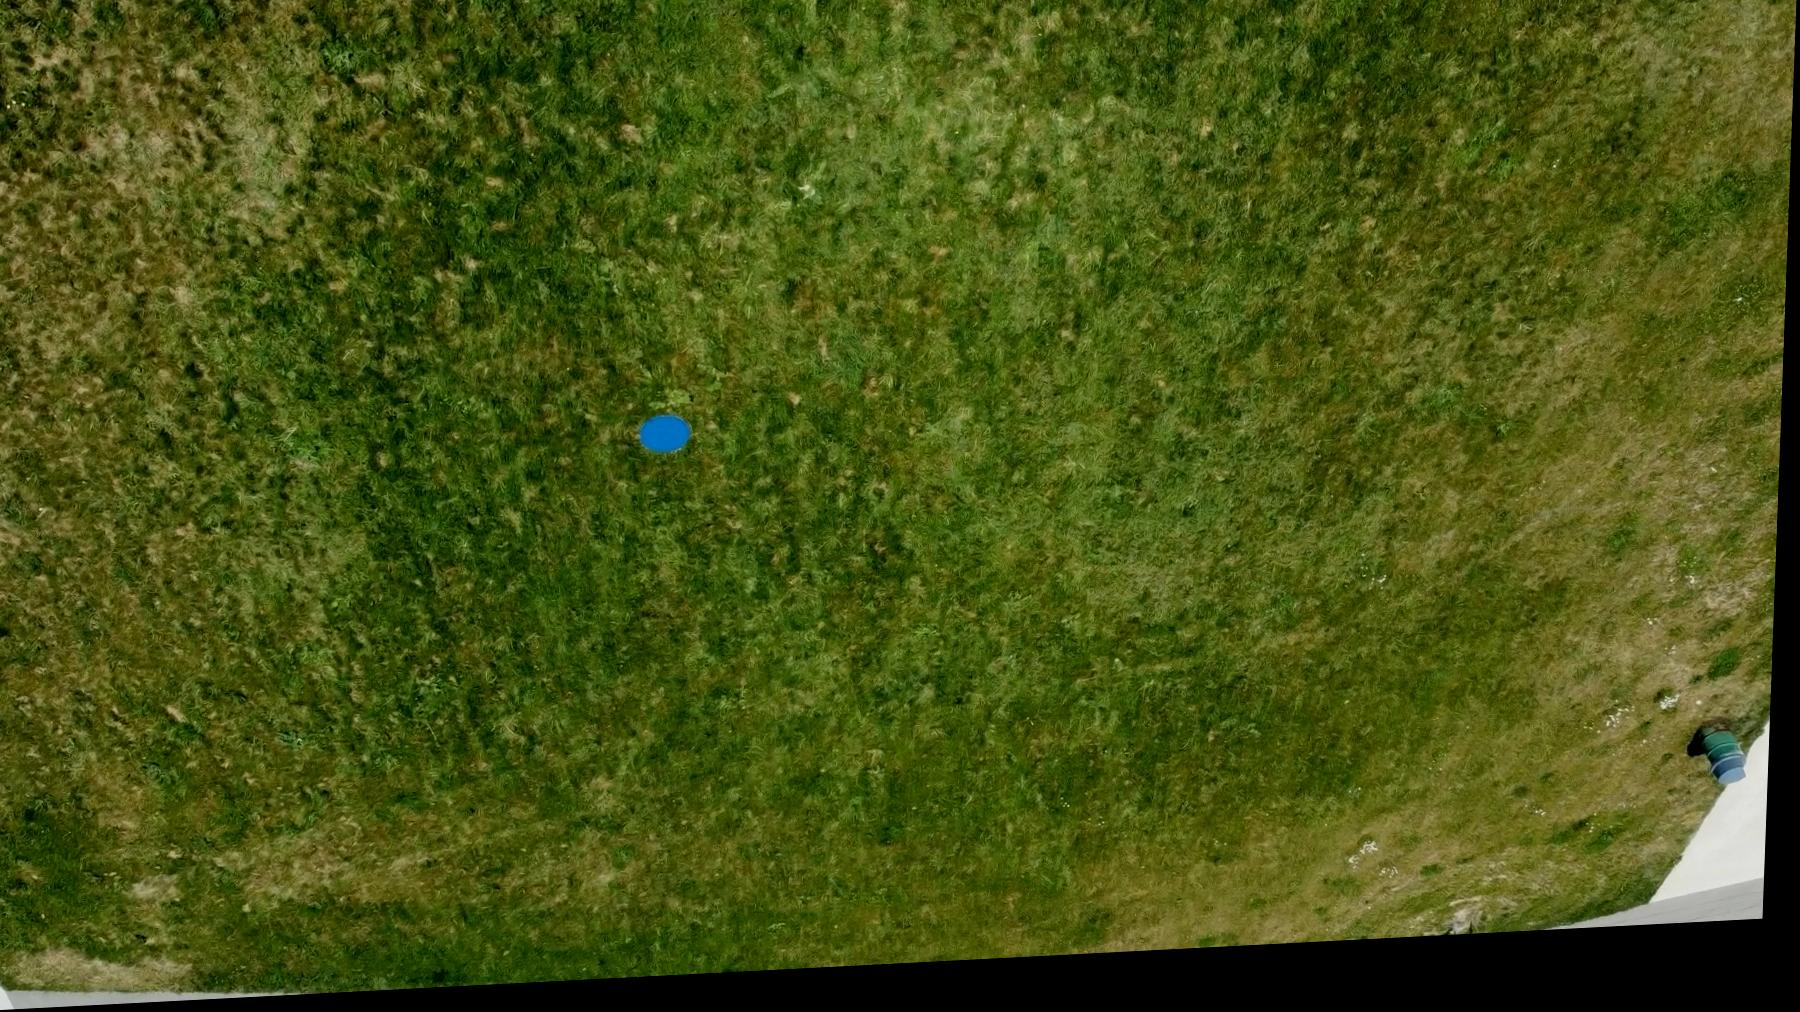Blue: (640, 419, 695, 466)
